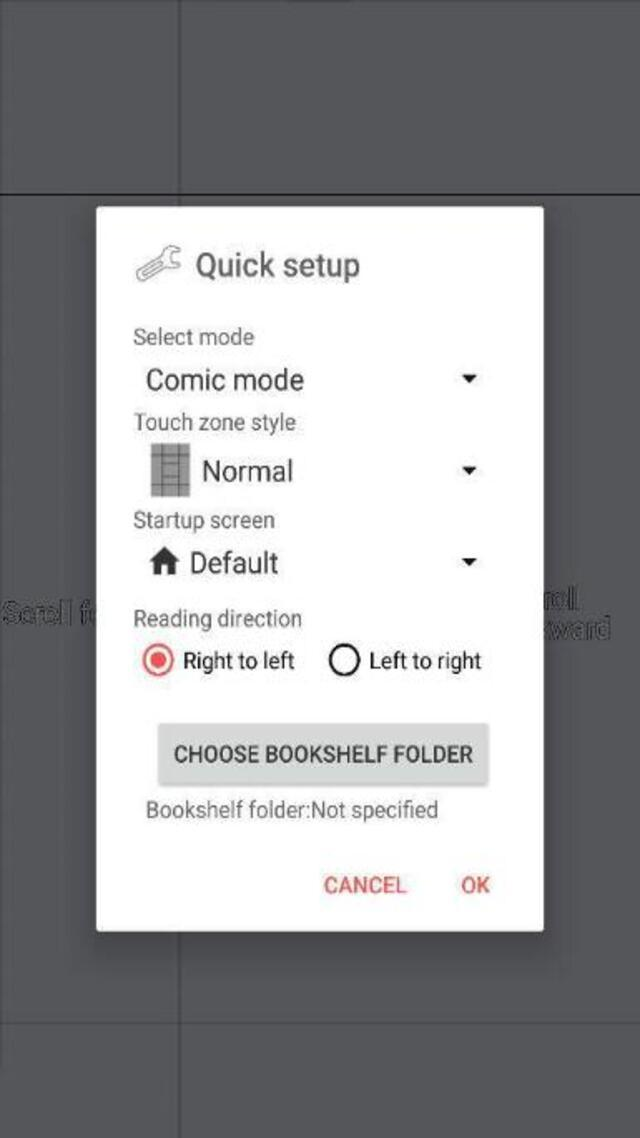CheckedTextView: (142, 642, 294, 678), (328, 641, 480, 675), (462, 558, 476, 566), (462, 375, 476, 382), (462, 466, 476, 473)
Icon: (150, 444, 190, 496), (136, 244, 180, 282), (148, 546, 180, 574)
Text: (172, 742, 475, 765), (147, 799, 438, 820), (195, 250, 360, 282), (146, 366, 302, 391), (135, 609, 301, 632), (133, 411, 296, 434), (134, 510, 275, 532), (370, 649, 481, 674), (184, 650, 294, 673), (202, 458, 292, 484), (133, 327, 253, 345), (192, 548, 278, 572), (325, 874, 406, 892), (462, 876, 489, 892)
TextButton: (157, 721, 488, 787)
